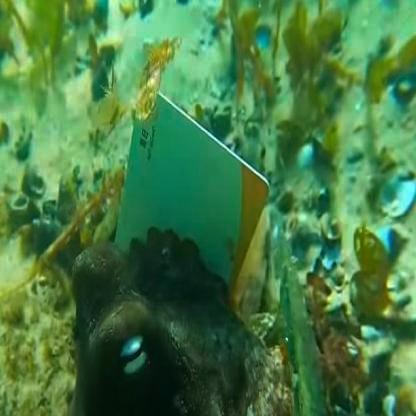misc: (93, 90, 292, 326)
